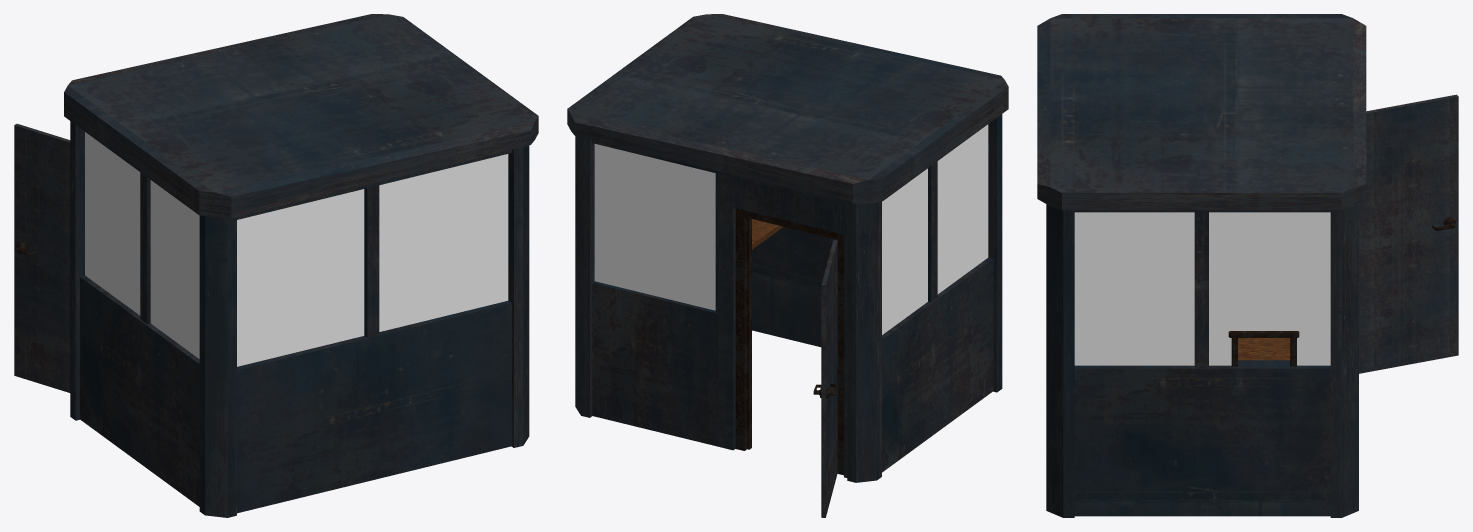
File: Booth.gltf
3 renders of one model, left to right at view 1: azimuth 30°, elevation 25°; view 2: azimuth 150°, elevation 25°; view 3: azimuth 270°, elevation 25°, orthographic. The views are drawn at different scales.
Visible parts, largest first — view 1: Base, Door; view 2: Base, DoorFrame, Door; view 3: Base, Door.
Boxes of the visible parts, left/top/right/bottom form: Base: left=64, top=14, right=538, bottom=517; Door: left=14, top=123, right=70, bottom=392; Base: left=567, top=14, right=1008, bottom=482; DoorFrame: left=735, top=208, right=843, bottom=475; Door: left=821, top=240, right=837, bottom=517; Base: left=1037, top=14, right=1366, bottom=517; Door: left=1359, top=94, right=1458, bottom=373.
Size of the model in its own units: 2.85 by 2.62 by 2.96.
5 materials, 4 textured.
